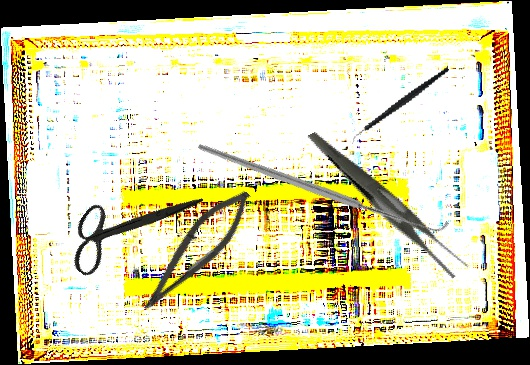Chopper: (338, 65, 463, 148)
Dressing Forceps: (306, 98, 471, 307)
Hook Surgical: (197, 54, 450, 317)
Iris Scissors: (55, 148, 204, 306)
Micro Scissor: (133, 178, 261, 325)
